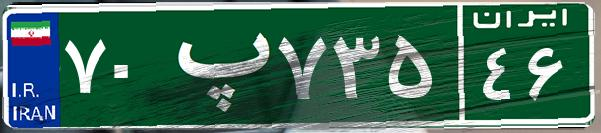0: (110, 28, 158, 105)
3: (330, 28, 385, 110)
4: (475, 38, 525, 113)
5: (385, 28, 445, 110)
6: (525, 38, 570, 115)
7: (273, 28, 330, 110), (57, 26, 110, 107)
پ: (158, 15, 273, 115)
